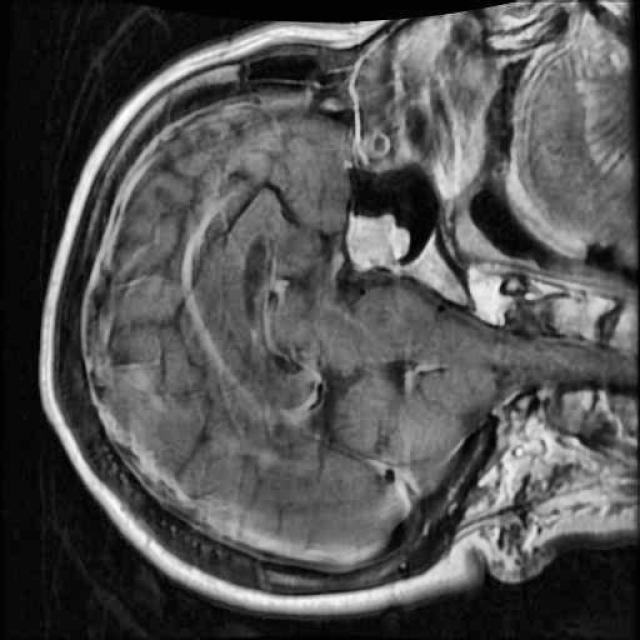Tumor: (332, 201, 429, 280)
